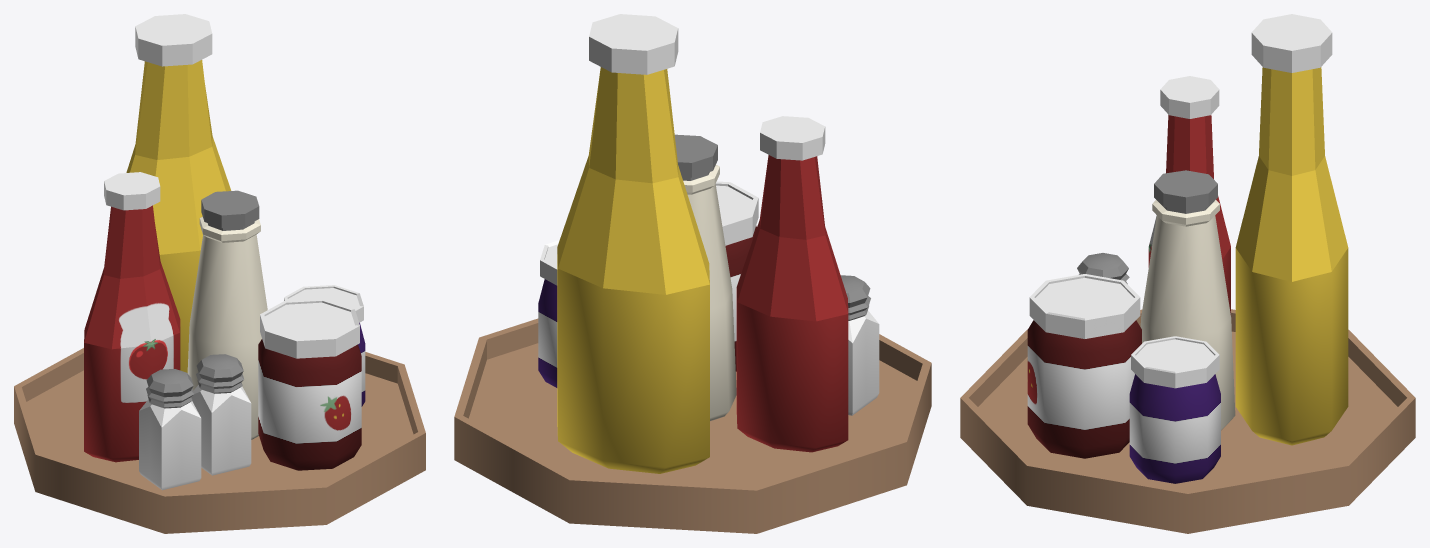
File: sauce 1.fbx
The picture shows the model from 3 angles, left to right: view 1: azimuth 30°, elevation 25°; view 2: azimuth 150°, elevation 25°; view 3: azimuth 270°, elevation 25°; orthographic projection. The views are drawn at different scales.
Visible parts, largest first — view 1: sauce; view 2: sauce; view 3: sauce.
Boxes of the visible parts, x1,y1,x2,y2 form: sauce: (14,14,425,533); sauce: (454,14,931,533); sauce: (960,14,1415,533).
Size of the model in its own units: 0.7023 by 0.6921 by 0.7023.
Materials: 1 (1 with a texture image).
